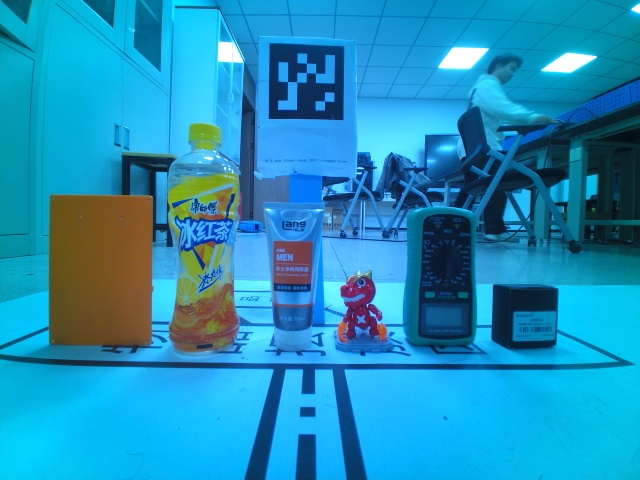banzi: (491, 282, 560, 349)
binghongcha: (333, 267, 396, 355)
dabao: (262, 200, 325, 353)
dianbiao: (167, 122, 241, 359)
hezi: (402, 206, 479, 348)
long: (47, 193, 154, 349)
